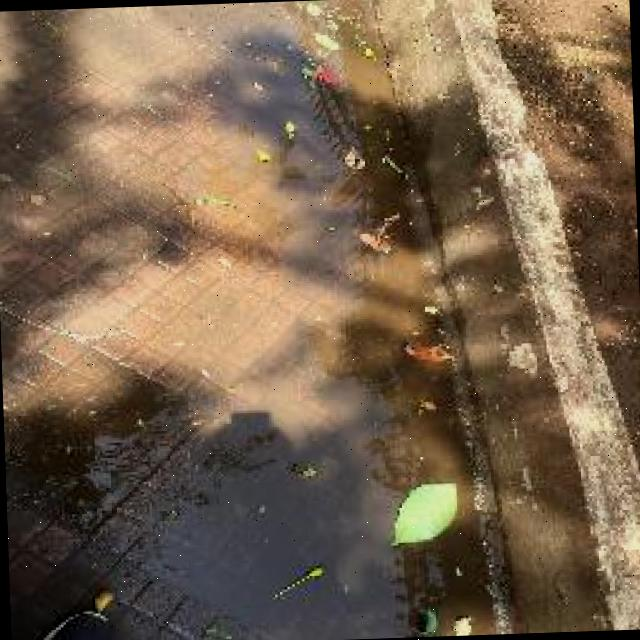waterlogging: (119, 54, 419, 640)
